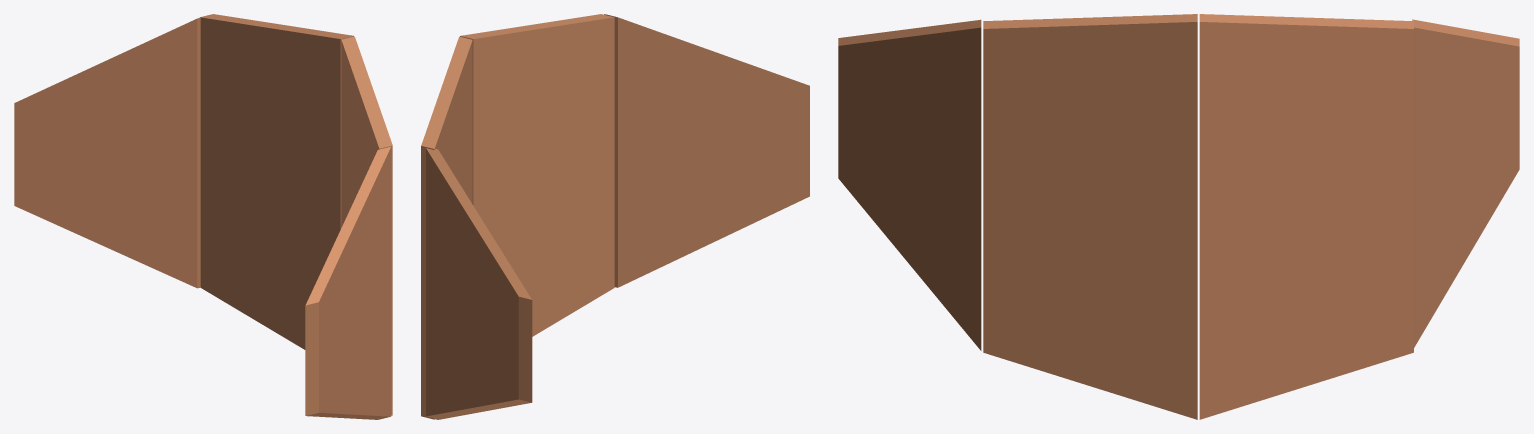
The model's file is redOnionPeelCollider.obj.
The picture shows the model from 3 angles, left to right: view 1: azimuth 30°, elevation 25°; view 2: azimuth 150°, elevation 25°; view 3: azimuth 270°, elevation 25°; orthographic projection. The views are drawn at different scales.
Parts seen in each view (by area): view 1: onion.006, onion.003, onion.004, onion.005; view 2: onion.005, onion.004, onion.003, onion.006; view 3: onion.006, onion.005, onion.004, onion.003.
Part boxes in pixels (bbox=[...]): onion.006: bbox=[199, 14, 353, 349]; onion.003: bbox=[14, 17, 200, 288]; onion.004: bbox=[305, 147, 391, 419]; onion.005: bbox=[341, 36, 392, 415]; onion.005: bbox=[460, 14, 614, 336]; onion.004: bbox=[604, 14, 809, 287]; onion.003: bbox=[426, 148, 532, 419]; onion.006: bbox=[421, 36, 472, 419]; onion.006: bbox=[1199, 14, 1413, 419]; onion.005: bbox=[983, 14, 1197, 419]; onion.004: bbox=[838, 19, 981, 350]; onion.003: bbox=[1412, 19, 1519, 347].
Size of the model in its own units: 0.04 by 0.0615 by 0.0954.
